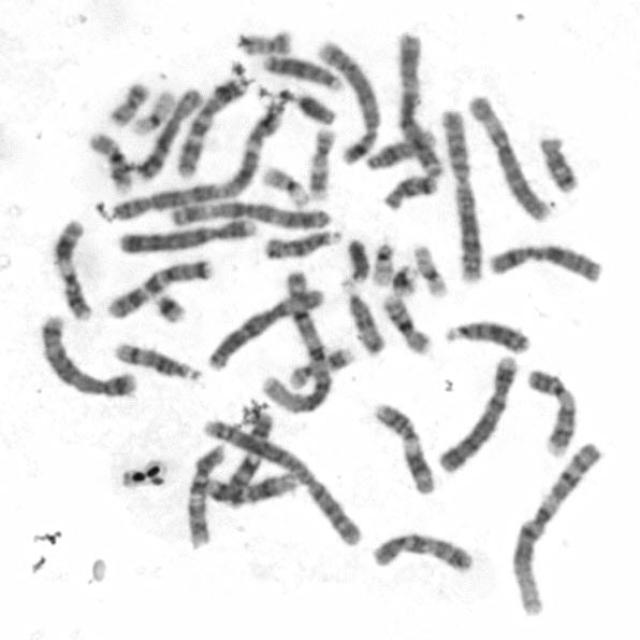A1: (507, 440, 607, 618), (257, 265, 335, 415)
A2: (197, 412, 366, 548), (437, 104, 484, 284)
A3: (393, 27, 445, 180), (164, 197, 333, 232)
B4: (434, 349, 521, 475), (114, 214, 258, 256)
B5: (36, 310, 140, 400), (314, 36, 382, 169)
C10: (180, 440, 227, 550), (368, 527, 477, 574)
C11: (369, 398, 436, 496), (49, 216, 94, 322)
C12: (223, 102, 287, 198), (201, 466, 302, 506)
C6: (466, 90, 552, 224), (203, 282, 325, 372)
C7: (172, 72, 249, 179), (102, 254, 215, 320)
C8: (133, 83, 204, 182), (106, 181, 229, 223)
C9: (523, 365, 579, 459), (224, 411, 274, 508)
D13: (258, 51, 344, 92), (440, 316, 532, 354)
D14: (111, 338, 203, 382), (363, 130, 438, 177)
D15: (339, 281, 386, 357), (260, 225, 344, 262)
E16: (379, 288, 434, 358), (85, 127, 133, 195)
E17: (284, 344, 356, 391), (304, 123, 338, 199)
E18: (534, 129, 581, 195), (378, 170, 440, 212)
F19: (409, 241, 450, 301), (129, 87, 177, 137)
F20: (105, 79, 152, 128), (233, 27, 293, 56)
G21: (148, 288, 188, 325), (388, 260, 421, 298)
G22: (258, 163, 312, 208), (368, 239, 395, 288)
X: (482, 238, 605, 285)
Y: (289, 88, 338, 127), (342, 234, 370, 284)
